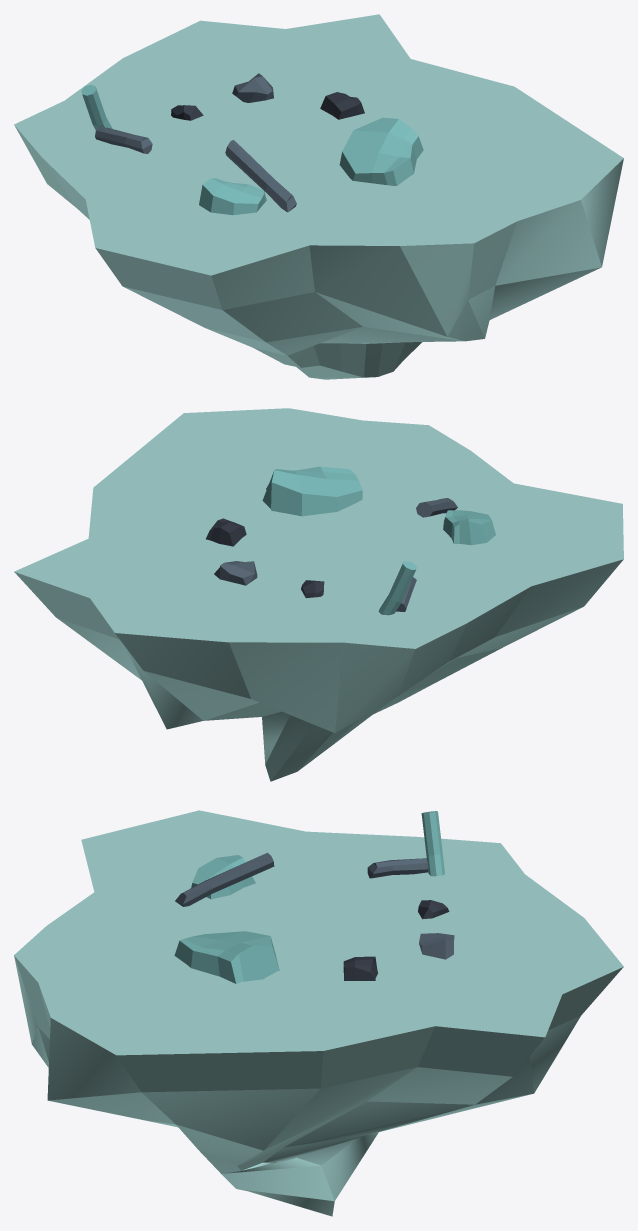
File: ground2.glb
3 renders of one model, top to bottom at view 1: azimuth 30°, elevation 25°; view 2: azimuth 150°, elevation 25°; view 3: azimuth 270°, elevation 25°, orthographic. The views are drawn at different scales.
Visible parts, largest first — view 1: Cylinder; view 2: Cylinder; view 3: Cylinder.
Boxes of the visible parts, left/top/right/bottom form: Cylinder: left=14, top=14, right=623, bottom=379; Cylinder: left=14, top=408, right=623, bottom=781; Cylinder: left=14, top=810, right=623, bottom=1216.
Bounding box in the file's own units: 36.7 × 21.8 × 38.61.
1 material, 1 textured.
